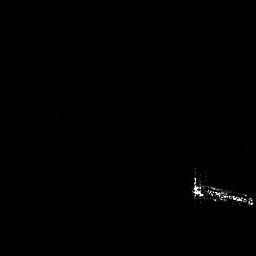ship: (190, 166, 256, 210)
